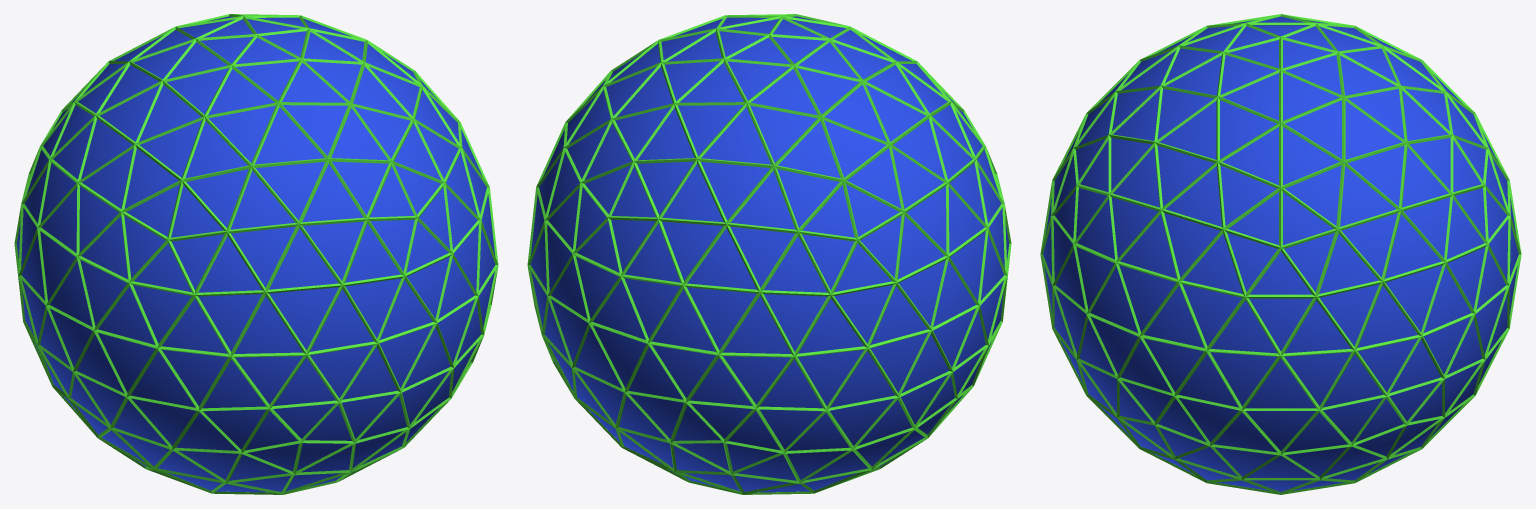
The model's file is nav.dae.
The picture shows the model from 3 angles, left to right: view 1: azimuth 30°, elevation 25°; view 2: azimuth 150°, elevation 25°; view 3: azimuth 270°, elevation 25°; orthographic projection.
Parts seen in each view (by area): view 1: Icosphere; view 2: Icosphere; view 3: Icosphere.
Part boxes in pixels (x1,y1,x2,y2): Icosphere: (14,14,498,494); Icosphere: (527,14,1011,494); Icosphere: (1040,14,1521,494).
Bounding box in the file's own units: 2.02 × 2.02 × 2.02.
